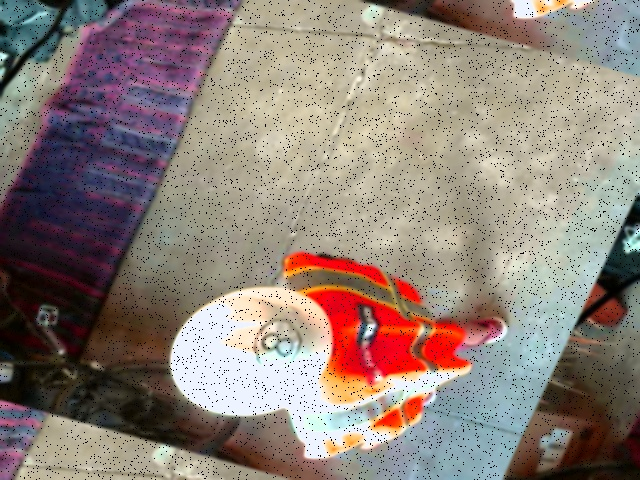eight: (242, 313, 310, 375)
